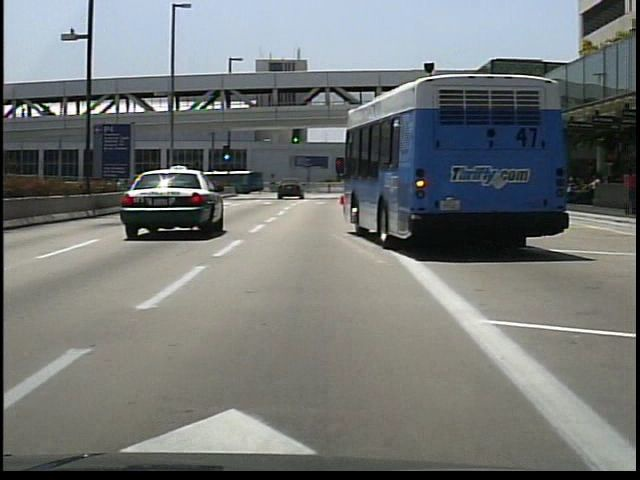person: (620, 166, 638, 218)
